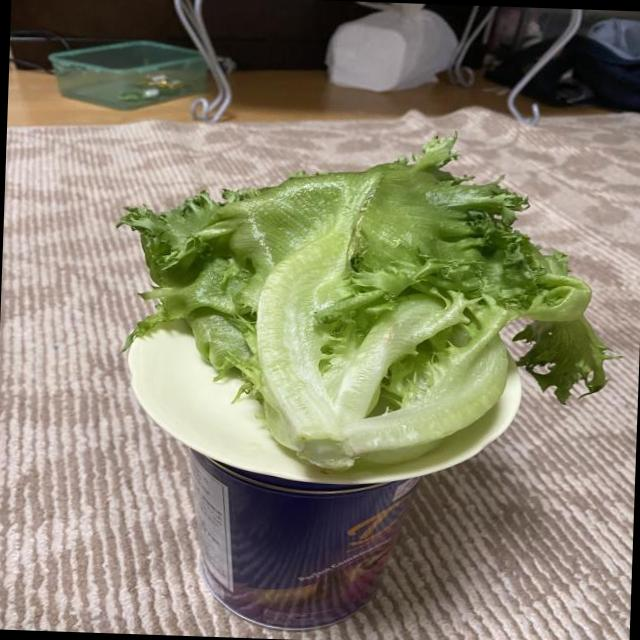Lettuce-Ready-to-Harvest: (120, 137, 610, 469)
